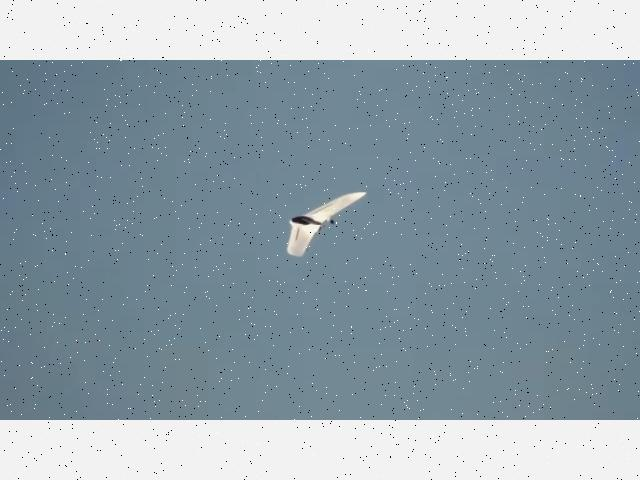Anti-Drone: (286, 191, 364, 256)
